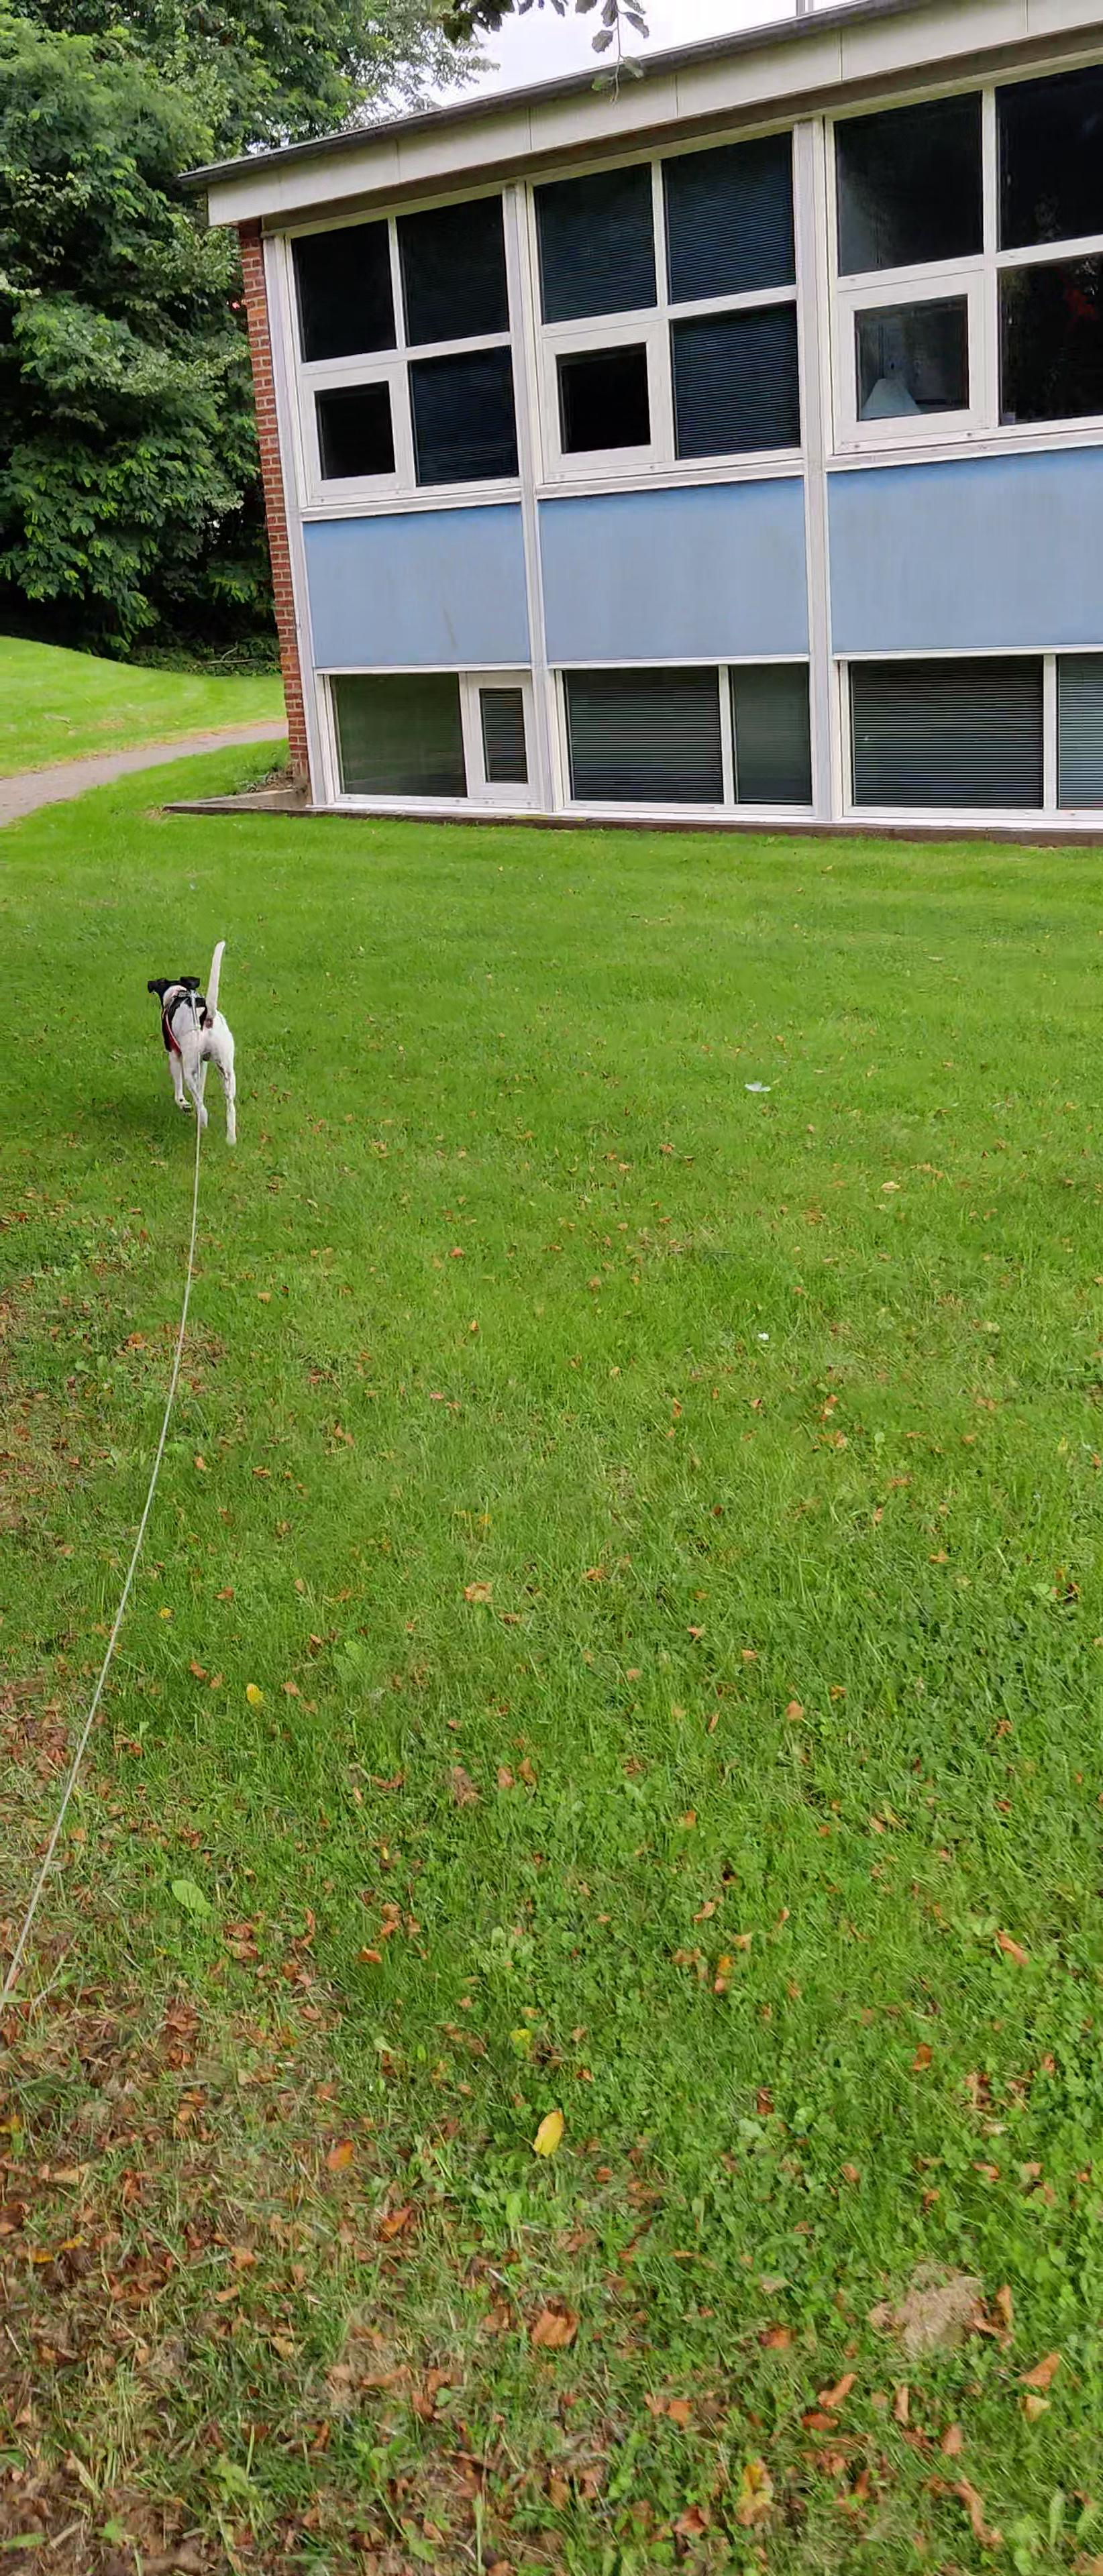Dog: (135, 933, 275, 1157)
